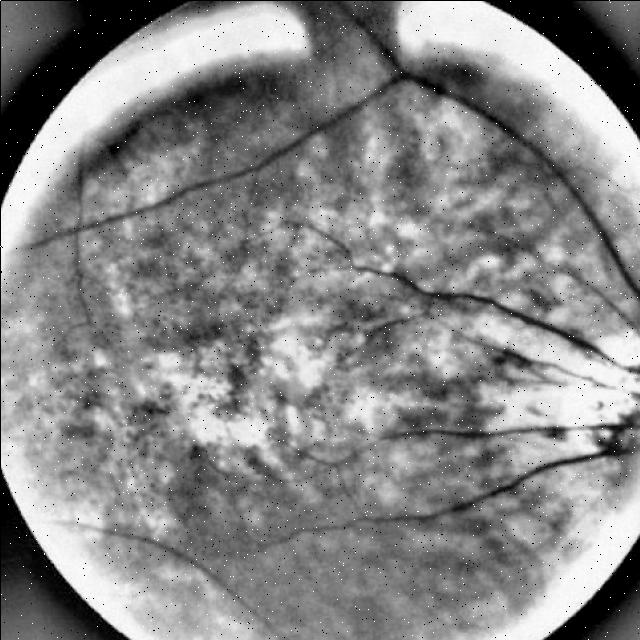Nerves: (417, 289, 626, 372), (354, 453, 601, 522), (393, 422, 611, 441)
Optic Disk: (563, 330, 640, 535)
